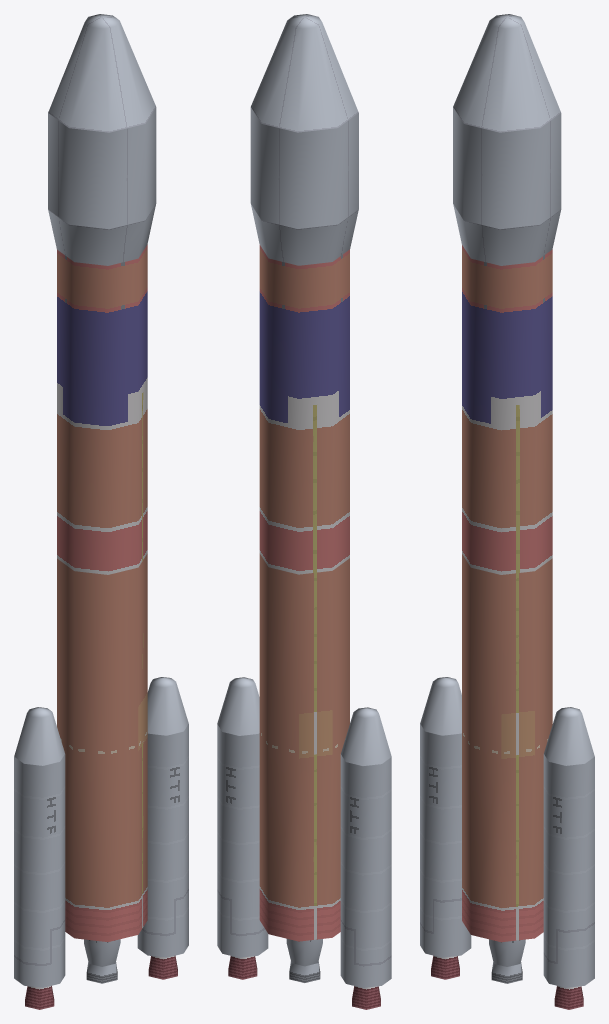
File: 0176_Rocket.glb
3 renders of one model, left to right at view 1: azimuth 30°, elevation 25°; view 2: azimuth 150°, elevation 25°; view 3: azimuth 330°, elevation 25°, orthographic.
Parts seen in each view (by area): view 1: part_0; view 2: part_0; view 3: part_0.
Part boxes in pixels (left/top/right/bottom): part_0: left=14, top=14, right=188, bottom=1009; part_0: left=217, top=14, right=391, bottom=1009; part_0: left=420, top=14, right=594, bottom=1009.
Bounding box in the file's own units: 34.57 × 195 × 18.32.
Materials: 1 (1 with a texture image).
